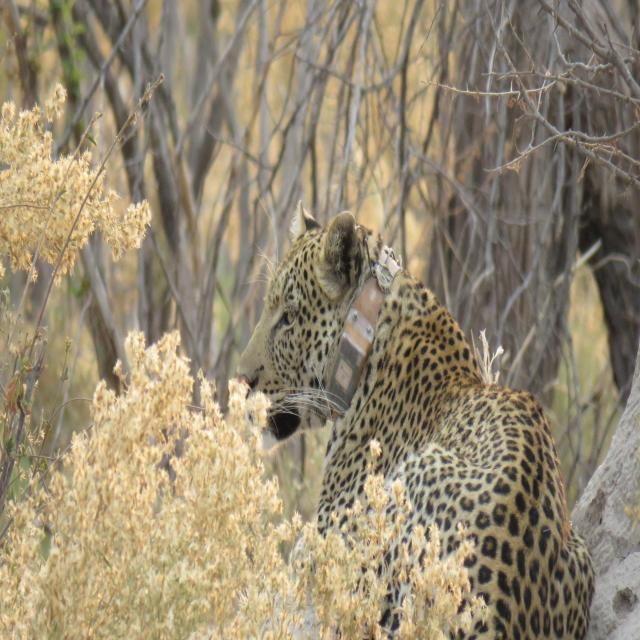Leopard: (243, 189, 601, 636)
